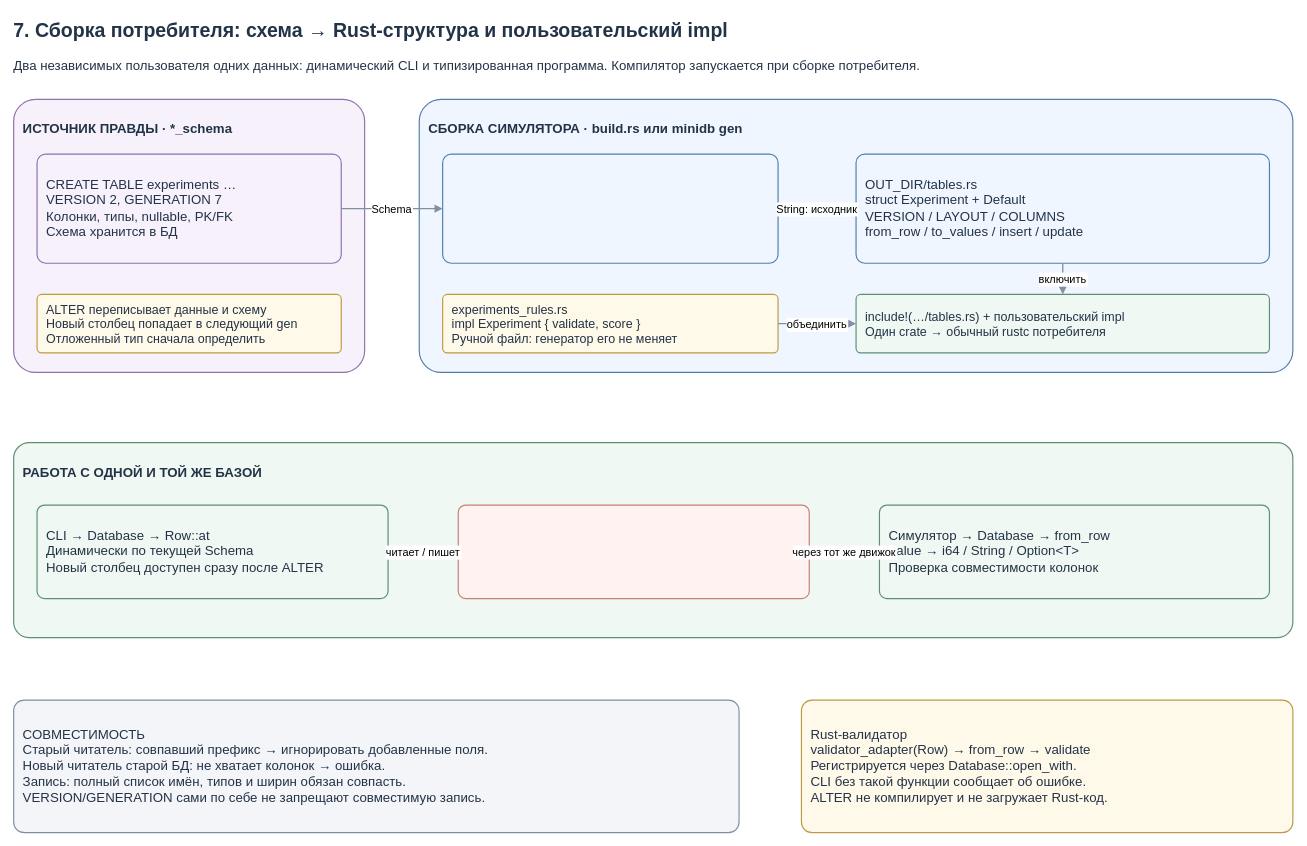
The diagram is 1307 pixels wide and 846 high, and some of its shapes have lost their labels. The shapes that lost their labels are listed below. From the top down, each one's centre as x and y in pixels, then its label:
the point at 610,208: codegen::generate_dir Читает *_schema Считает Layout Генерирует исходный текст
the point at 633,551: experiments_schema experiments_7 Один UTF-8 файл текущих данных
